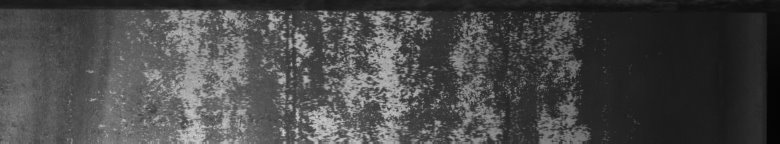kb: (86, 4, 568, 136)
